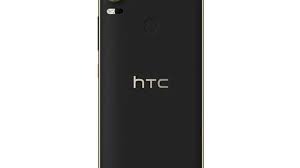htc: (93, 1, 207, 167)
